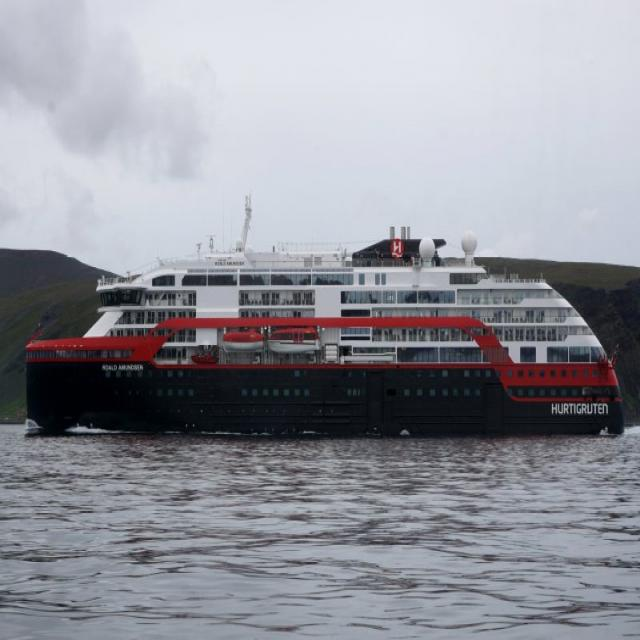cruises: (22, 195, 635, 445)
